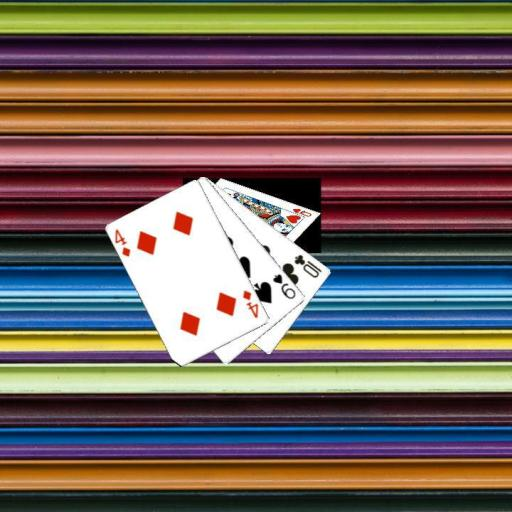10C: (291, 251, 323, 279)
4D: (112, 226, 132, 259), (240, 288, 260, 320)
9S: (270, 270, 297, 301)
